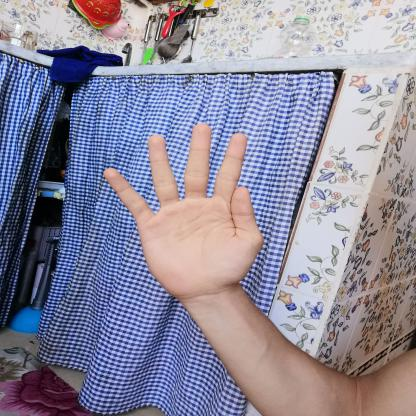SHEEN: (90, 115, 278, 310)
